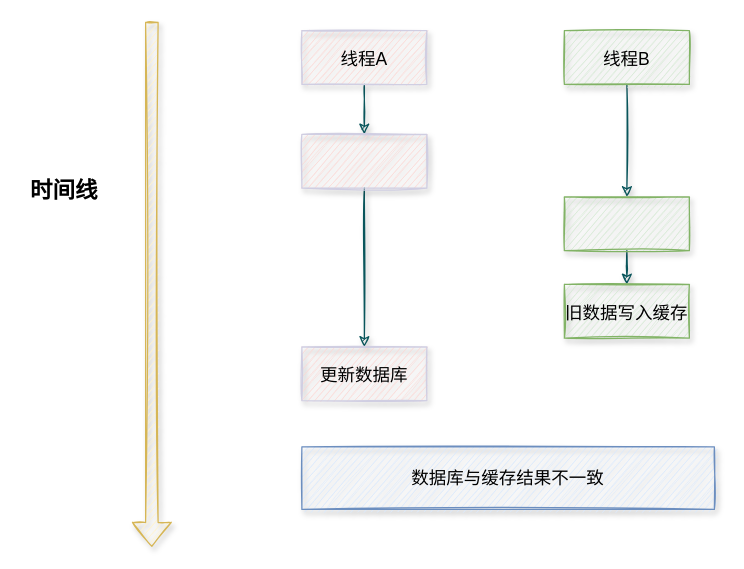
Image size: 744x569. Some labels were removed from this diagram. Here are the shapes that lost their labels. From the top down, the centre of each, then its label:
(x=365, y=162): 删除缓存
(x=627, y=225): 读取数据库
